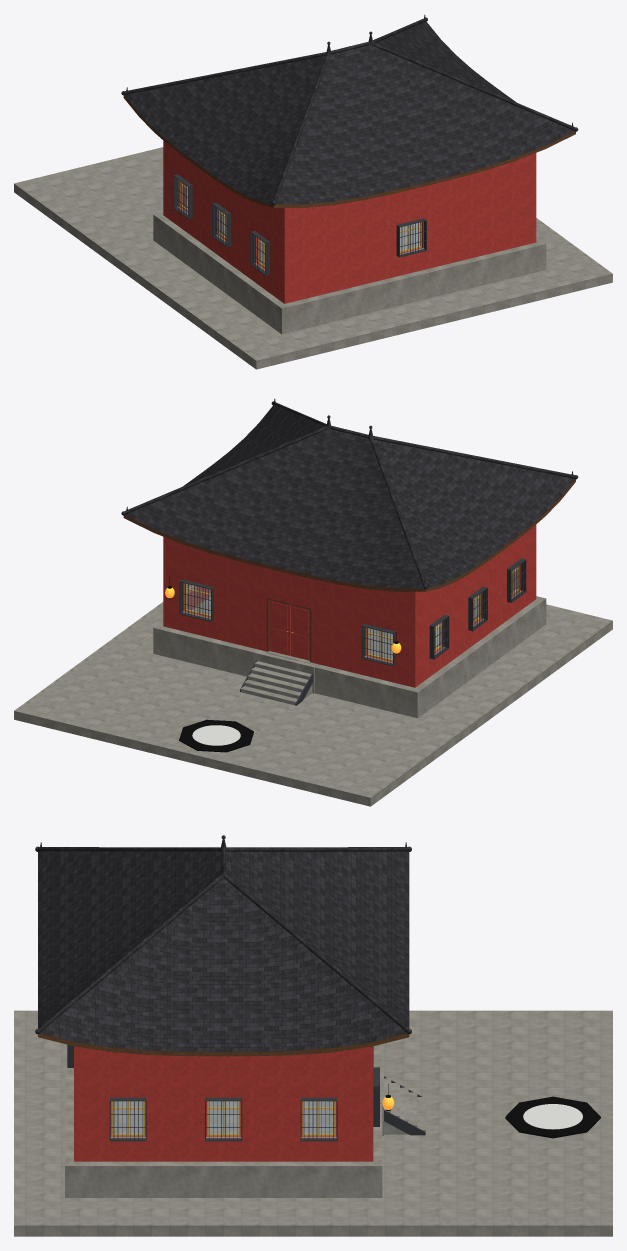
File: b_taoist_temple.gltf
3 views of the same model, one above another, from view 1: azimuth 30°, elevation 25°; view 2: azimuth 150°, elevation 25°; view 3: azimuth 270°, elevation 25° (orthographic). The views are drawn at different scales.
Parts seen in each view (by area): view 1: S_taoist_temple; view 2: S_taoist_temple, D_taoist_temple_F1_S2_Door0, D_taoist_temple_F1_S2_Door1; view 3: S_taoist_temple.
Boxes of the visible parts, left/top/right/bottom form: S_taoist_temple: left=14, top=14, right=612, bottom=369; S_taoist_temple: left=14, top=398, right=612, bottom=806; D_taoist_temple_F1_S2_Door0: left=269, top=600, right=290, bottom=655; D_taoist_temple_F1_S2_Door1: left=290, top=605, right=309, bottom=660; S_taoist_temple: left=14, top=835, right=612, bottom=1236.
Size of the model in its own units: 17 by 10.35 by 20.
Materials: 15 (8 with a texture image).
